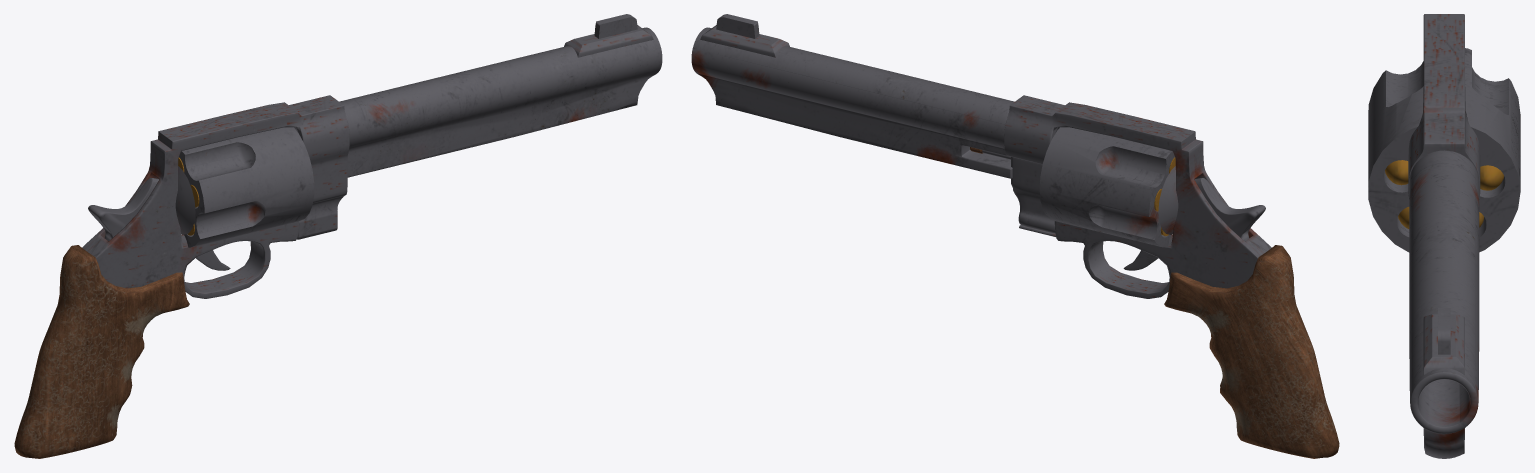
File: Revolver-1.fbx
3 views of the same model, side by side, from view 1: azimuth 30°, elevation 25°; view 2: azimuth 150°, elevation 25°; view 3: azimuth 270°, elevation 25° (orthographic). The views are drawn at different scales.
Visible parts, largest first — view 1: polySurface20, polySurface24, polySurface22; view 2: polySurface20, polySurface24, polySurface23, polySurface22; view 3: polySurface20, polySurface24, polySurface37, polySurface34, polySurface35.
Part boxes in pixels (x1,y1,x2,y2): polySurface20: (14,14,662,458); polySurface24: (179,127,314,247); polySurface22: (88,178,158,240); polySurface20: (691,14,1339,458); polySurface24: (1039,127,1174,247); polySurface23: (1011,157,1055,233); polySurface22: (1194,178,1265,241); polySurface20: (1408,14,1480,458); polySurface24: (1368,48,1520,252); polySurface37: (1480,165,1503,190); polySurface34: (1385,160,1408,185); polySurface35: (1398,207,1409,228).
Size of the model in its own units: 197 by 86.79 by 28.34.
